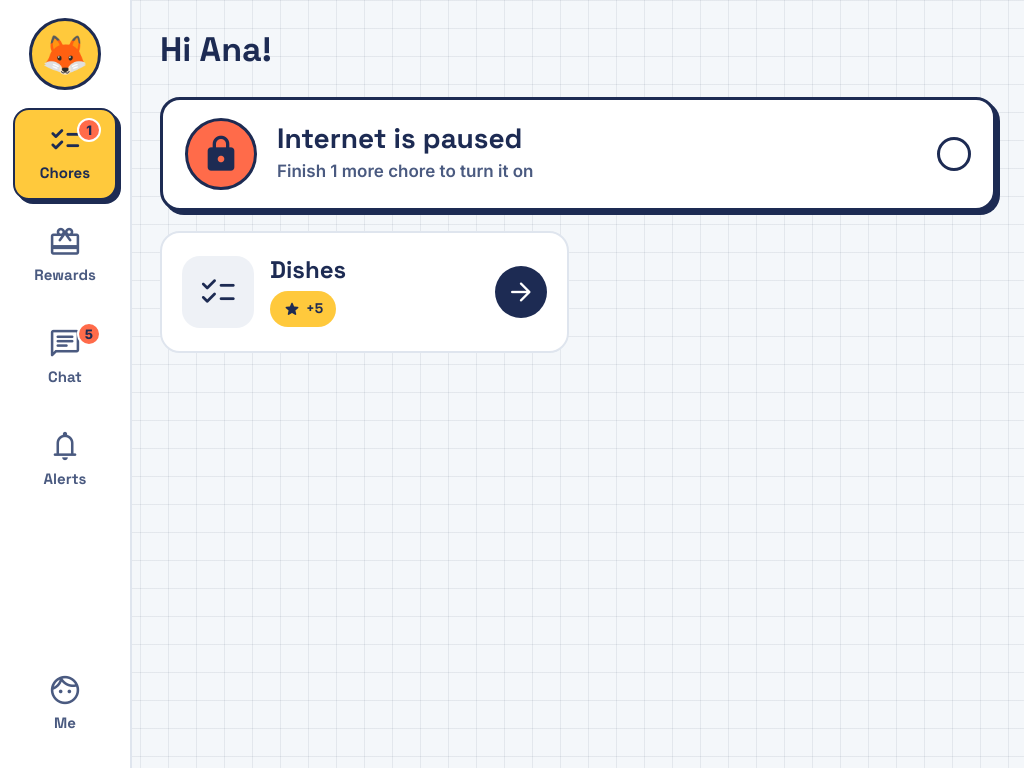
Test: kid chat › a text-less note and a step reply render their label and quote
Click the button named "Open Dishes" at (201, 303), box [160, 231, 569, 353]
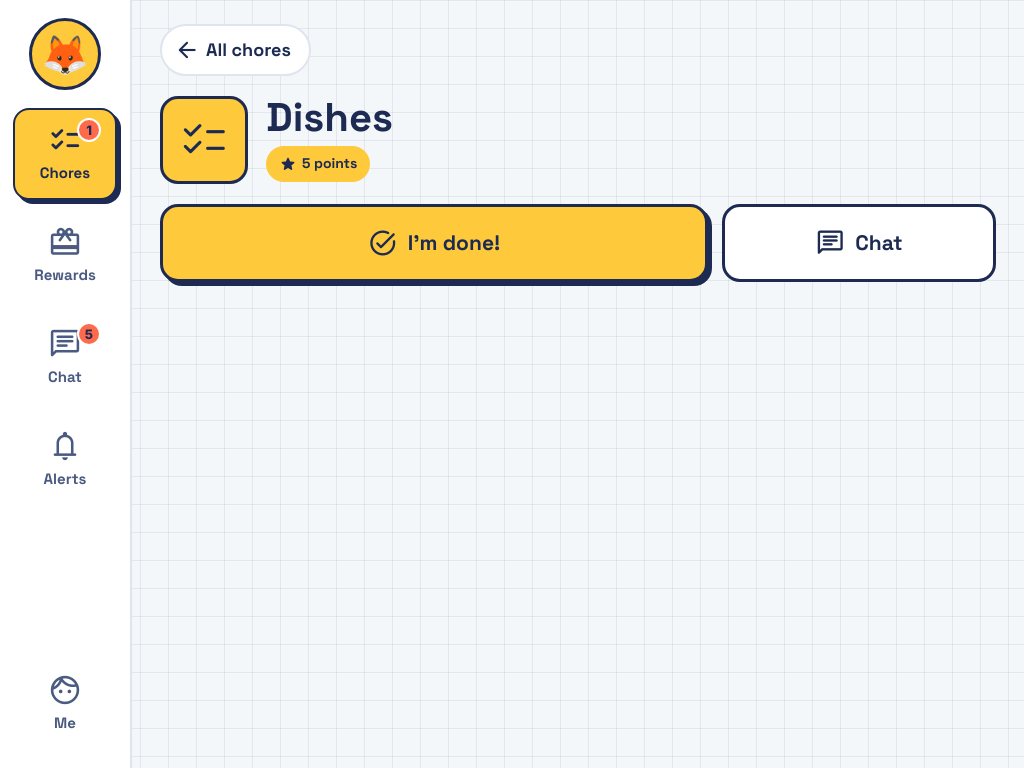
Click the 1st button "Chat" at (859, 243), box [722, 204, 996, 282]
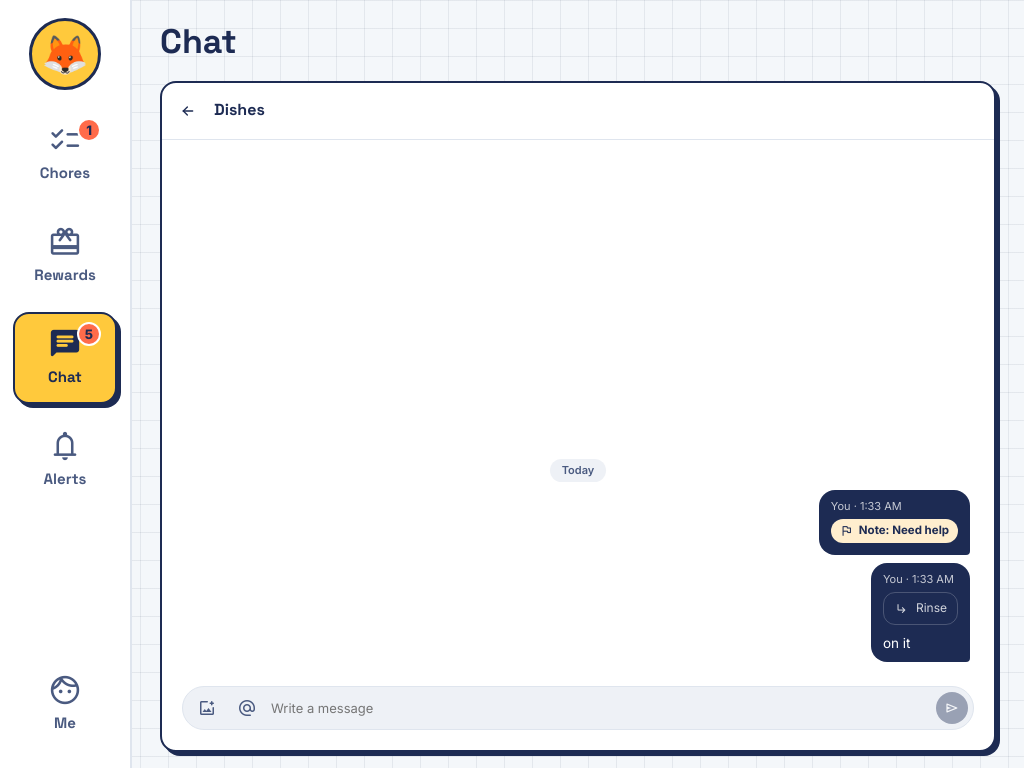
Expected: the text "Note: Need help" is shown, [831, 520, 958, 543]
Expected: the text "Rinse" is shown, [883, 592, 958, 625]
